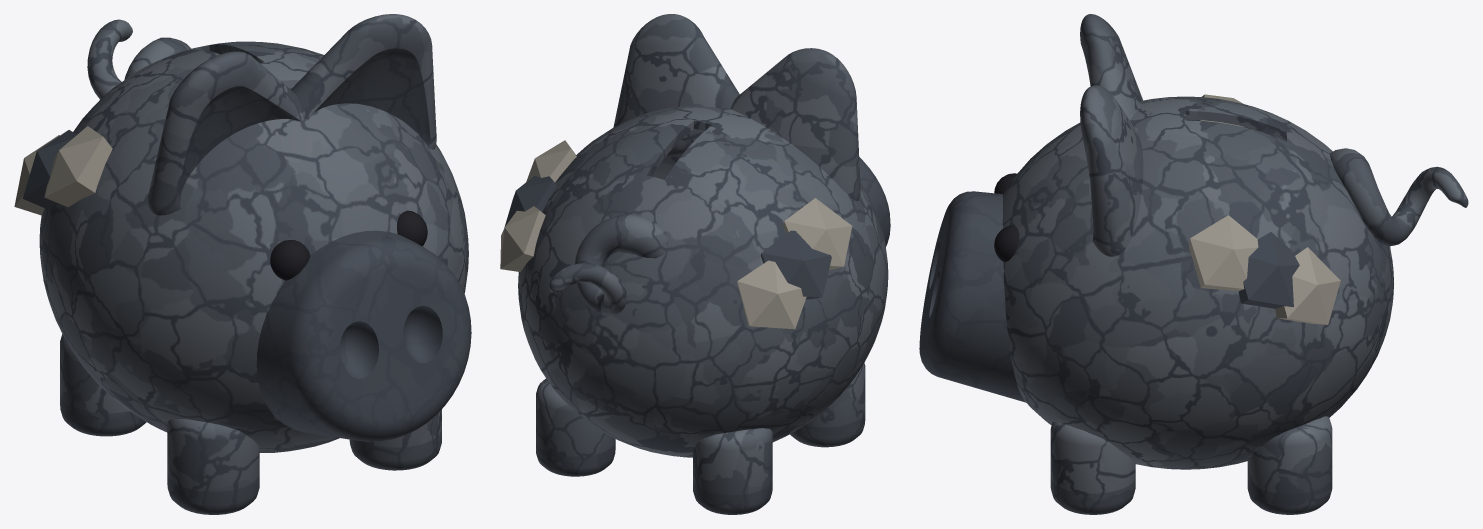
File: rockslide-og-v1-complete.fbx
The picture shows the model from 3 angles, left to right: view 1: azimuth 30°, elevation 25°; view 2: azimuth 150°, elevation 25°; view 3: azimuth 270°, elevation 25°; orthographic projection. The views are drawn at different scales.
Visible parts, largest first — view 1: Body, Snout, Ears, Legs, RockPlate_-1_0, Tail, EyePreview, RockPlate_-1_1, RockPlate_-1_2; view 2: Body, Ears, Legs, Tail, RockPlate_-1_2, RockPlate_-1_1, RockPlate_-1_0, RockPlate_1_2, RockPlate_1_1, RockPlate_1_0, Snout; view 3: Body, Snout, Legs, Ears, Tail, RockPlate_1_0, RockPlate_1_1, RockPlate_1_2, EyePreview.
Part boxes in pixels (<box>): Body: <box>39,41,468,452</box>; Snout: <box>256,230,471,441</box>; Ears: <box>148,14,436,215</box>; Legs: <box>60,334,441,514</box>; RockPlate_-1_0: <box>44,126,112,207</box>; Tail: <box>87,19,191,99</box>; EyePreview: <box>270,210,427,280</box>; RockPlate_-1_1: <box>22,130,76,210</box>; RockPlate_-1_2: <box>14,135,59,215</box>; Body: <box>518,106,888,457</box>; Ears: <box>613,14,860,201</box>; Legs: <box>536,363,865,514</box>; Tail: <box>549,214,668,316</box>; RockPlate_-1_2: <box>737,260,806,329</box>; RockPlate_-1_1: <box>760,230,831,299</box>; RockPlate_-1_0: <box>783,198,852,269</box>; RockPlate_1_2: <box>500,206,545,271</box>; RockPlate_1_1: <box>504,175,556,227</box>; RockPlate_1_0: <box>526,140,576,182</box>; Snout: <box>859,157,890,246</box>; Body: <box>1002,96,1393,469</box>; Snout: <box>919,191,1025,402</box>; Legs: <box>1050,416,1332,514</box>; Ears: <box>1080,14,1143,256</box>; Tail: <box>1330,148,1468,246</box>; RockPlate_1_0: <box>1189,215,1258,291</box>; RockPlate_1_1: <box>1238,232,1299,308</box>; RockPlate_1_2: <box>1275,247,1340,324</box>; EyePreview: <box>994,173,1019,261</box>.
Bounding box in the file's own units: 1229 × 1397 × 1708.
9 materials, 2 textured.
